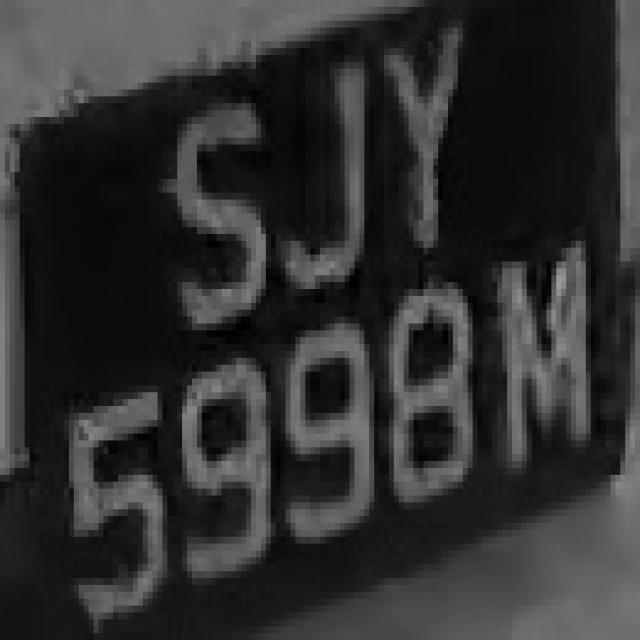5: (54, 372, 182, 633)
8: (374, 262, 492, 544)
9: (261, 289, 379, 557), (172, 344, 286, 599)
J: (261, 28, 369, 310)
M: (478, 220, 610, 475)
S: (152, 89, 270, 351)
Y: (364, 7, 473, 248)
